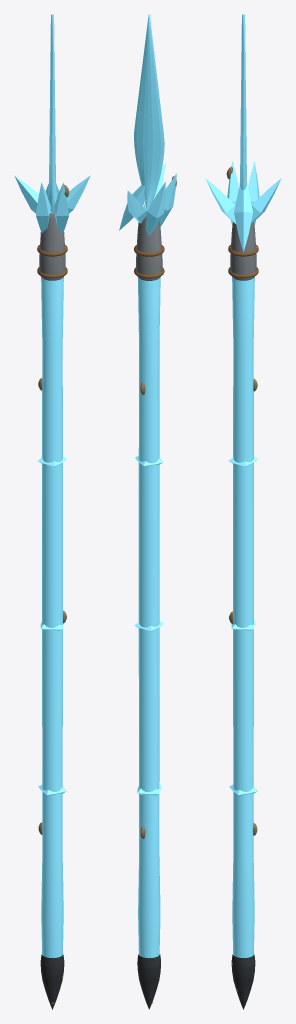
The model's file is ice-spear.glb.
The picture shows the model from 3 angles, left to right: view 1: azimuth 90°, elevation 25°; view 2: azimuth 150°, elevation 25°; view 3: azimuth 270°, elevation 25°; orthographic projection.
Visible parts, largest first — view 1: crystal / faceted crystal, steel / forged blade steel, darksteel / oil-blackened fittings, bronze / cast bronze with patina; view 2: crystal / faceted crystal, steel / forged blade steel, darksteel / oil-blackened fittings, bronze / cast bronze with patina; view 3: crystal / faceted crystal, steel / forged blade steel, darksteel / oil-blackened fittings, bronze / cast bronze with patina.
Part boxes in pixels (x1=…): crystal / faceted crystal: x1=14, y1=14, x2=90, y2=957; steel / forged blade steel: x1=39, y1=213, x2=65, y2=280; darksteel / oil-blackened fittings: x1=40, y1=954, x2=64, y2=1009; bronze / cast bronze with patina: x1=37, y1=245, x2=67, y2=278; crystal / faceted crystal: x1=119, y1=14, x2=176, y2=957; steel / forged blade steel: x1=136, y1=215, x2=162, y2=280; darksteel / oil-blackened fittings: x1=137, y1=954, x2=160, y2=1009; bronze / cast bronze with patina: x1=134, y1=245, x2=164, y2=278; crystal / faceted crystal: x1=205, y1=14, x2=281, y2=957; steel / forged blade steel: x1=230, y1=222, x2=256, y2=280; darksteel / oil-blackened fittings: x1=231, y1=954, x2=255, y2=1009; bronze / cast bronze with patina: x1=228, y1=245, x2=258, y2=278.
Bounding box in the file's own units: 0.1163 × 2.12 × 0.1476.
6 materials, 3 textured.
